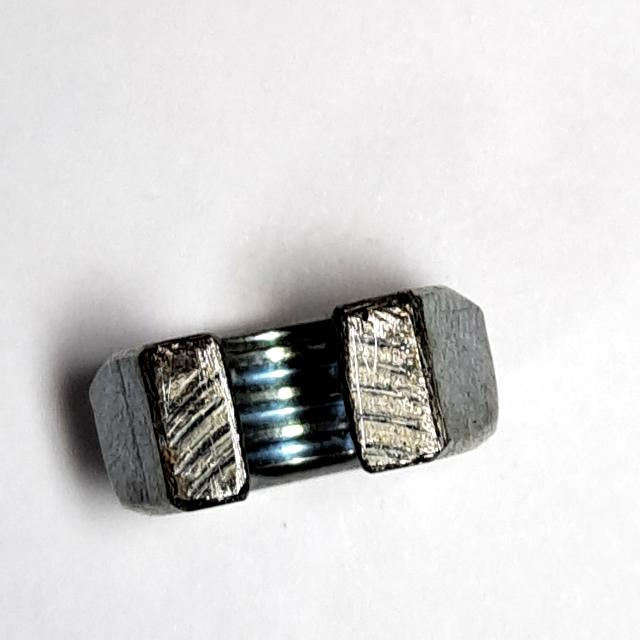Side-Fracture: (70, 269, 513, 531)
